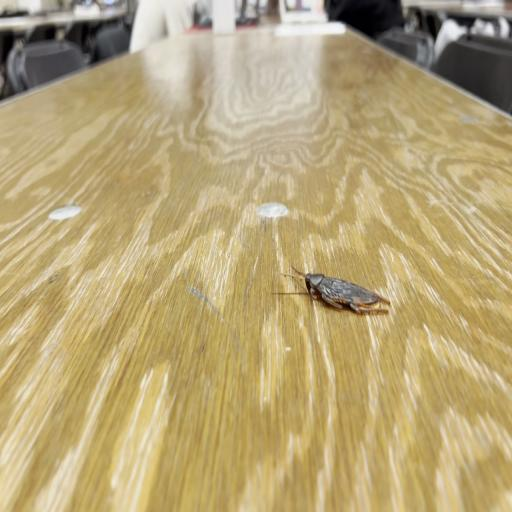cockroach: (272, 266, 392, 316)
